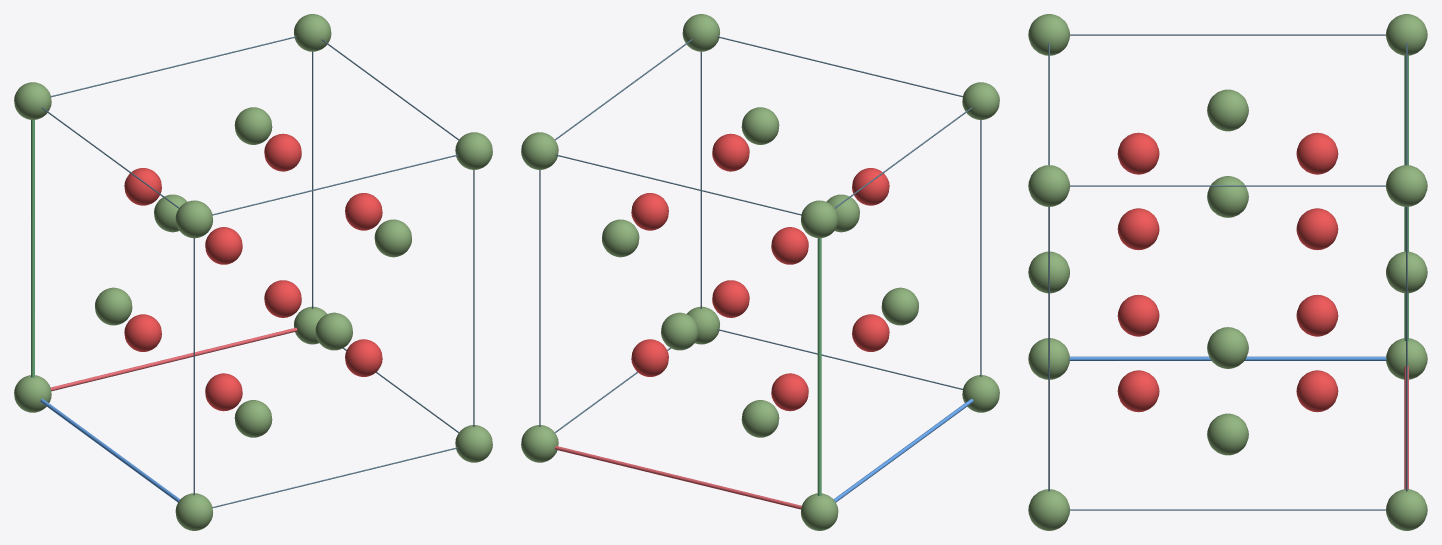
Rendered from uraninite.glb.
3 views of the same model, side by side, from view 1: azimuth 30°, elevation 25°; view 2: azimuth 150°, elevation 25°; view 3: azimuth 270°, elevation 25° (orthographic). The views are drawn at different scales.
Visible parts, largest first — view 1: U · U · 1 (×14), O · O · 1 (×8), Ô mạng và các trục a, b, c; view 2: U · U · 1 (×14), O · O · 1 (×8), Ô mạng và các trục a, b, c; view 3: U · U · 1 (×14), O · O · 1 (×8), Ô mạng và các trục a, b, c.
Part boxes in pixels (bbox=[...]): U · U · 1 (×14): bbox=[14, 14, 492, 530]; O · O · 1 (×8): bbox=[124, 133, 382, 411]; Ô mạng và các trục a, b, c: bbox=[31, 36, 474, 507]; U · U · 1 (×14): bbox=[521, 14, 999, 530]; O · O · 1 (×8): bbox=[631, 133, 889, 411]; Ô mạng và các trục a, b, c: bbox=[539, 36, 981, 509]; U · U · 1 (×14): bbox=[1028, 14, 1427, 530]; O · O · 1 (×8): bbox=[1117, 132, 1338, 412]; Ô mạng và các trục a, b, c: bbox=[1048, 34, 1408, 510].
Bounding box in the file's own units: 6.11 × 6.11 × 6.11.
